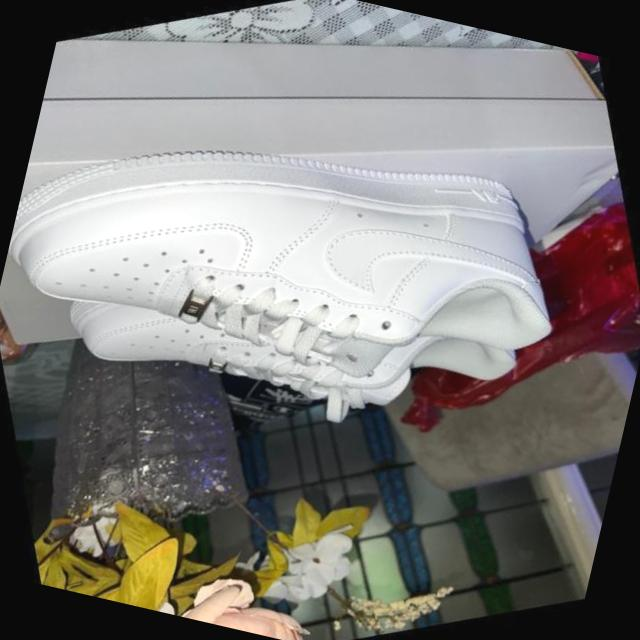nike_original_airforce: (0, 0, 640, 571), (90, 524, 130, 556)
